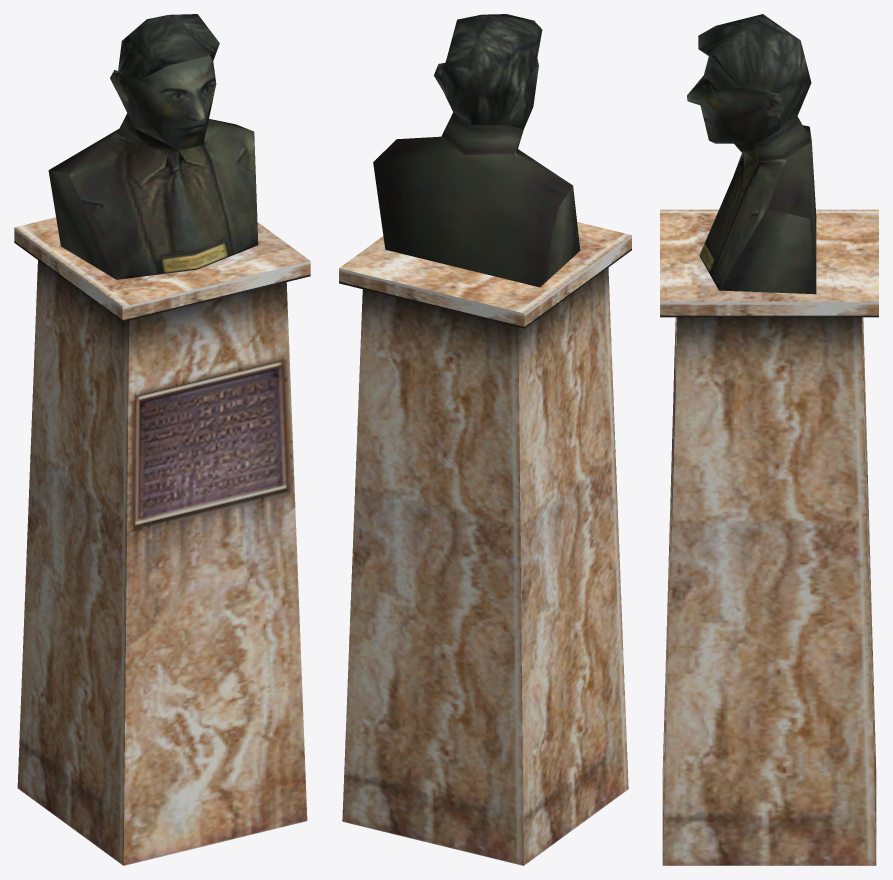
File: statue_bust.fbx
3 renders of one model, left to right at view 1: azimuth 30°, elevation 25°; view 2: azimuth 150°, elevation 25°; view 3: azimuth 270°, elevation 25°, orthographic. The views are drawn at different scales.
Parts seen in each view (by area): view 1: mesh_0, mesh_1; view 2: mesh_0, mesh_1; view 3: mesh_0, mesh_1.
Part boxes in pixels (box(x1,y1,x2,y2)): mesh_0: box(14, 217, 310, 865); mesh_1: box(48, 14, 258, 279); mesh_0: box(339, 222, 631, 865); mesh_1: box(373, 14, 580, 287); mesh_0: box(660, 209, 878, 865); mesh_1: box(687, 14, 816, 294).
Size of the model in its own units: 57.55 by 232 by 57.54.
1 material, 1 textured.
